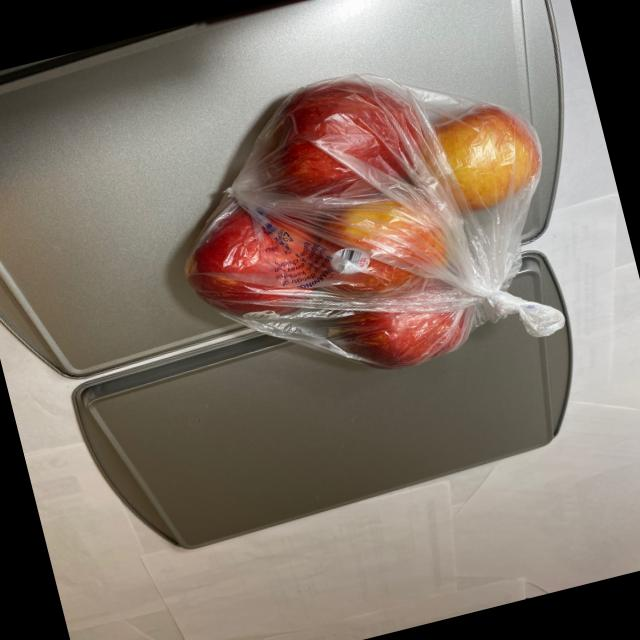apple: (138, 34, 593, 416)
